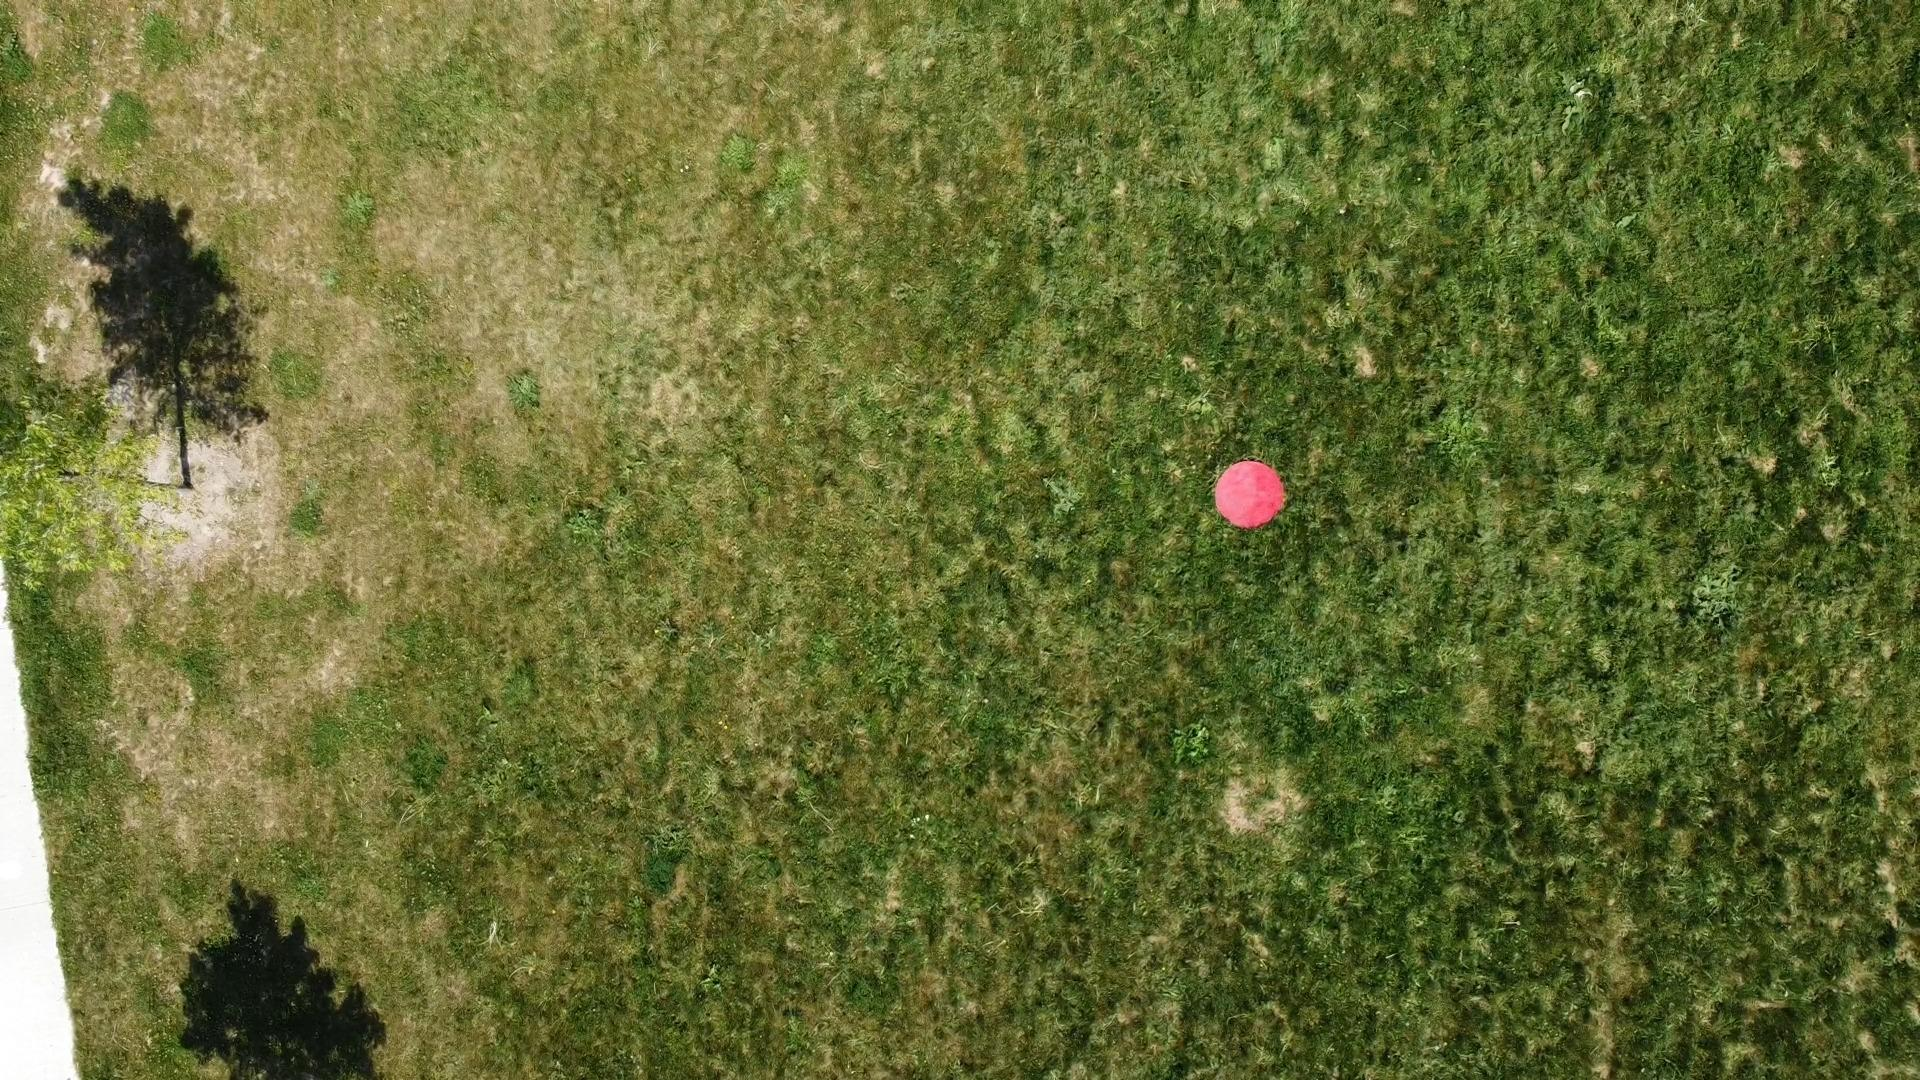Red: (1213, 456, 1291, 531)
